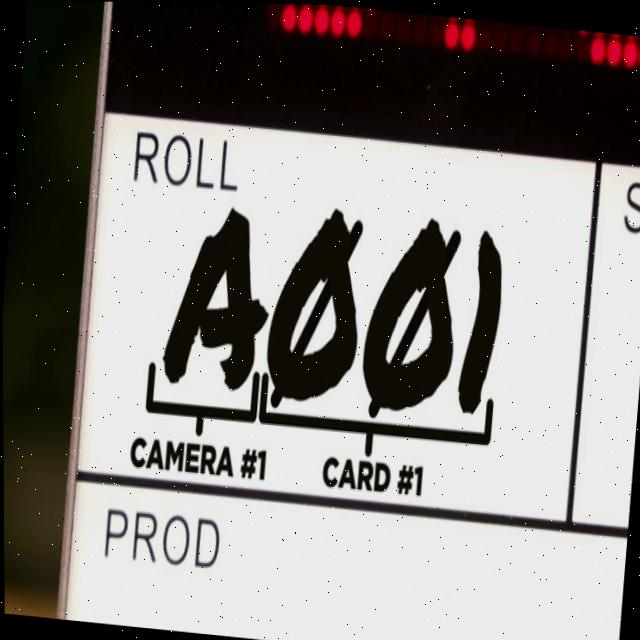Clapperboard: (48, 1, 640, 640)
